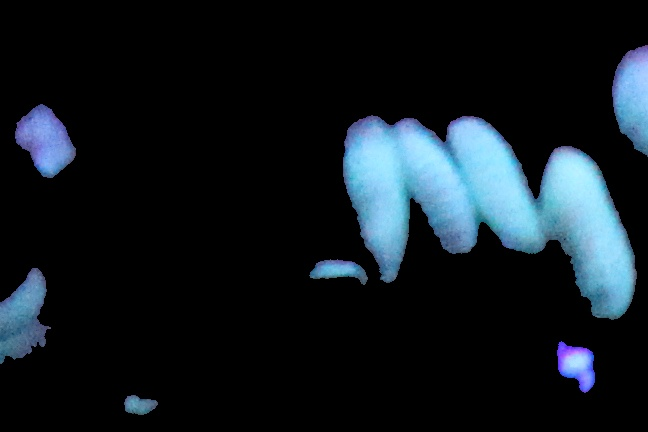larvae: (543, 149, 637, 322), (344, 119, 411, 288), (393, 122, 474, 251), (458, 124, 547, 241), (1, 265, 45, 339), (1, 322, 60, 376)
